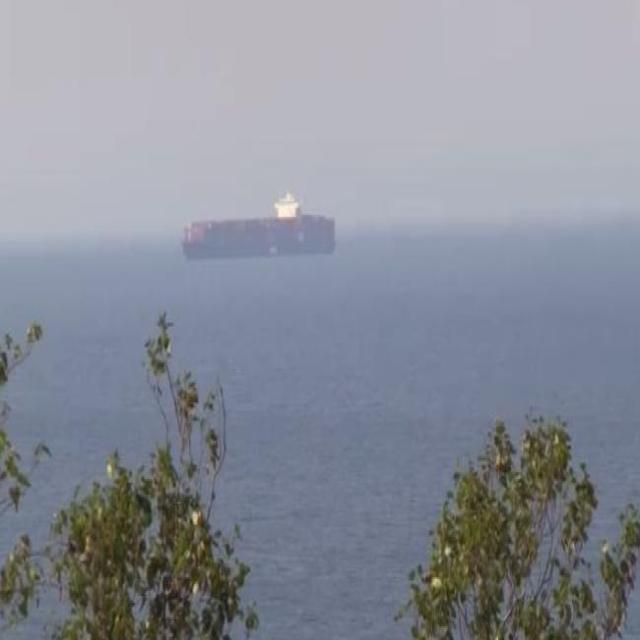cargoship: (181, 188, 337, 258)
